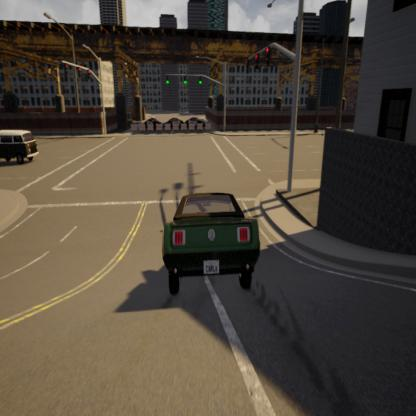Cars: (144, 173, 270, 304), (0, 118, 45, 170)
